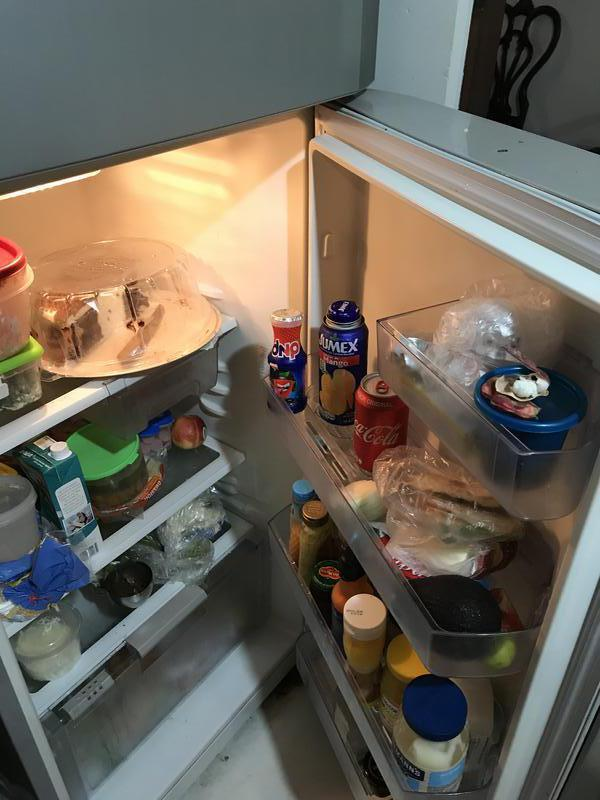coca_cola: (352, 373, 409, 474)
danup: (264, 308, 310, 419)
jugo_jumex: (319, 302, 369, 425)
